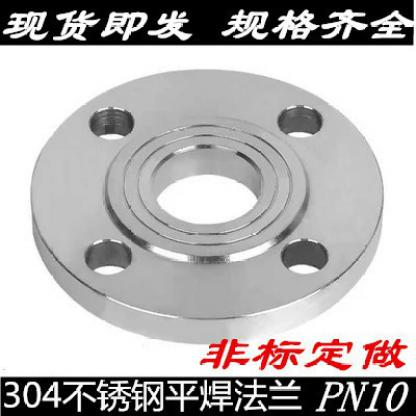FOD: (24, 60, 392, 354)
